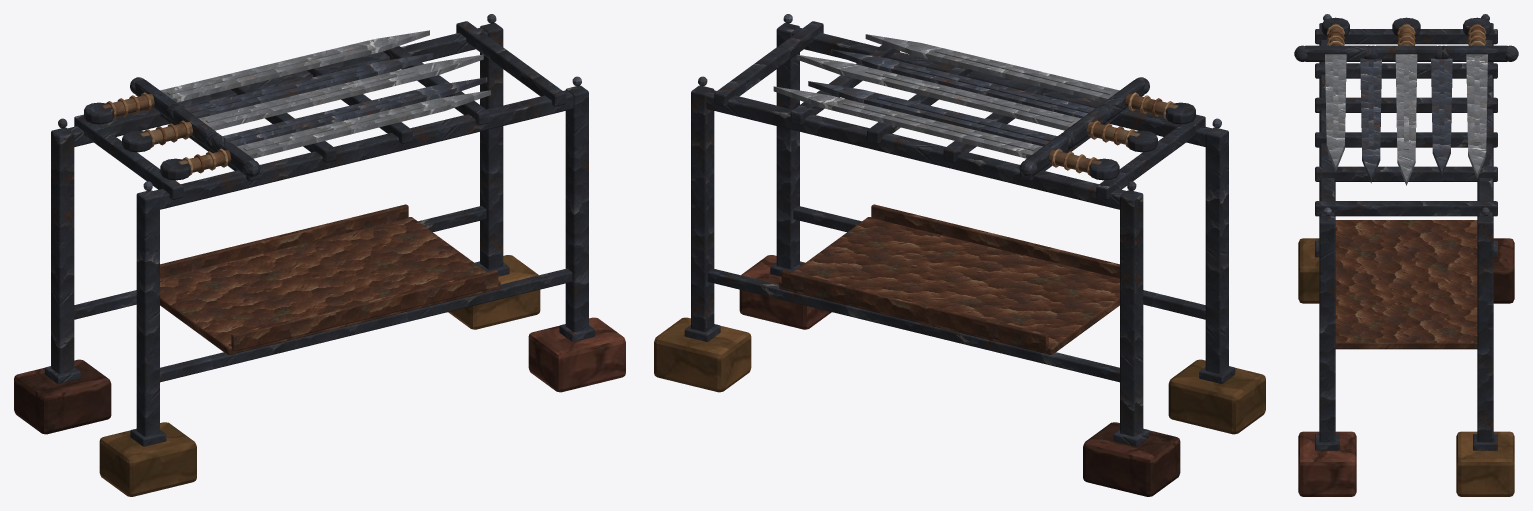
The model's file is ef_cooling_rack.glb.
3 renders of one model, left to right at view 1: azimuth 30°, elevation 25°; view 2: azimuth 150°, elevation 25°; view 3: azimuth 270°, elevation 25°, orthographic. The views are drawn at different scales.
Parts seen in each view (by area): view 1: model; view 2: model; view 3: model.
Boxes of the visible parts, box(x1,y1,x2,y2) form: model: box(14, 14, 625, 496); model: box(654, 14, 1265, 496); model: box(1294, 14, 1518, 496).
Size of the model in its own units: 1.28 by 0.7544 by 0.539.
Materials: 11 (11 with a texture image).
